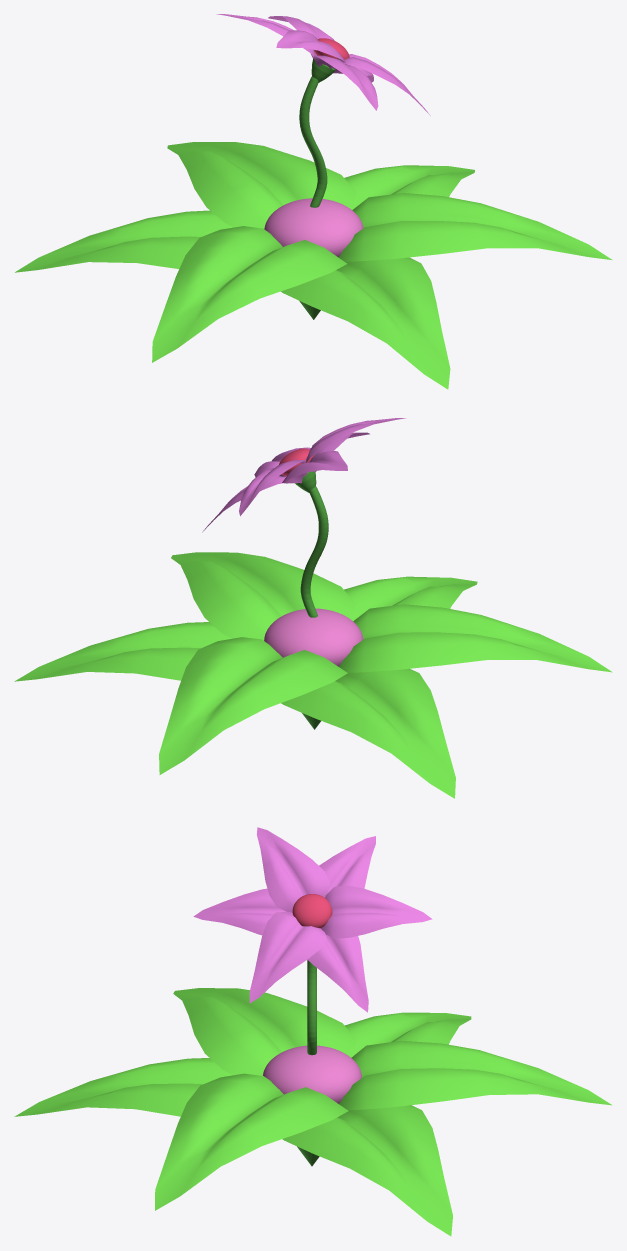
The model's file is flor (1).fbx.
The picture shows the model from 3 angles, top to bottom: view 1: azimuth 30°, elevation 25°; view 2: azimuth 150°, elevation 25°; view 3: azimuth 270°, elevation 25°; orthographic projection.
Visible parts, largest first — view 1: Plane.007; view 2: Plane.007; view 3: Plane.007.
Part boxes in pixels (box(x1,y1,x2,y2)): Plane.007: box(15, 14, 612, 389); Plane.007: box(14, 418, 612, 798); Plane.007: box(14, 827, 611, 1236).
Bounding box in the file's own units: 5.99 × 3.82 × 6.74.
